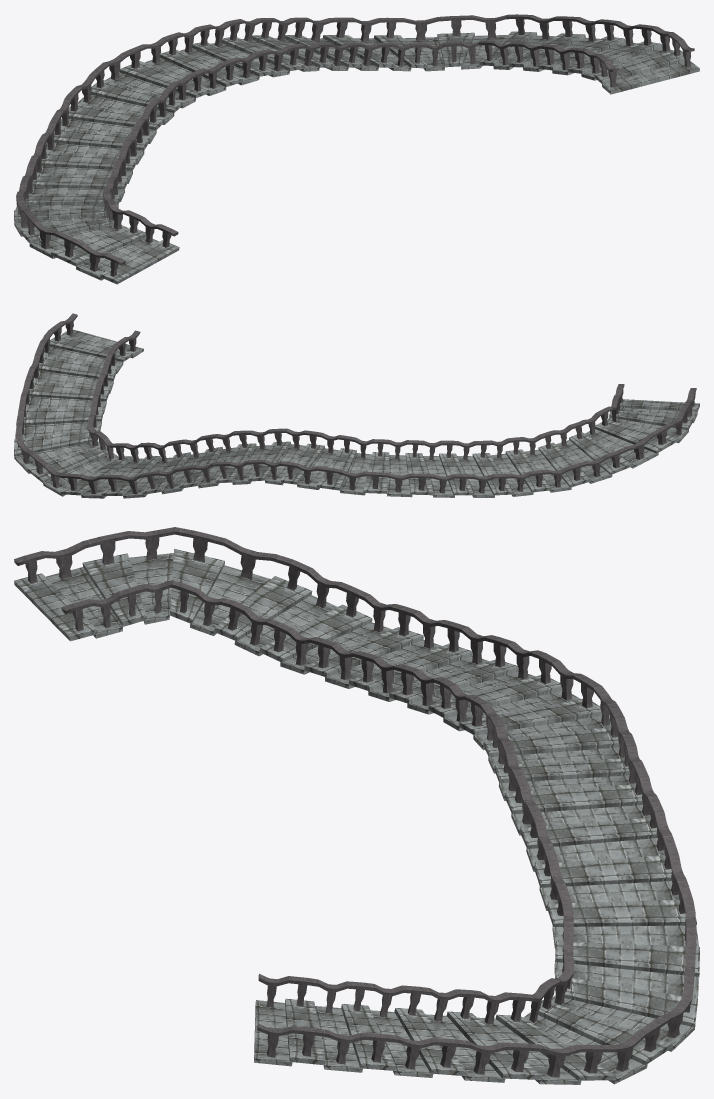
File: pod.glb
3 views of the same model, one above another, from view 1: azimuth 30°, elevation 25°; view 2: azimuth 150°, elevation 25°; view 3: azimuth 270°, elevation 25° (orthographic). The views are drawn at different scales.
Parts seen in each view (by area): view 1: BigBridge.003, BigBridge.001, BigBridge, BigBridge.017, BigBridge.019, BigBridge.015, BigBridge.021, BigBridge.013, BigBridge.002, BigBridge.011, BigBridge.047, BigBridge.023 (+36 smaller); view 2: BigBridge.005, BigBridge.041, BigBridge.037, BigBridge.043, BigBridge.039, BigBridge.045, BigBridge.007, BigBridge.006, BigBridge.047, BigBridge.009, BigBridge.021, BigBridge.008 (+36 smaller); view 3: BigBridge.033, BigBridge.031, BigBridge.029, BigBridge.035, BigBridge.037, BigBridge.005, BigBridge.025, BigBridge.003, BigBridge.027, BigBridge.007, BigBridge.006, BigBridge.009 (+36 smaller).
Part boxes in pixels (x1=…): BigBridge.003: x1=51, y1=210, x2=146, y2=266; BigBridge.001: x1=100, y1=224, x2=179, y2=284; BigBridge: x1=602, y1=40, x2=699, y2=94; BigBridge.017: x1=64, y1=86, x2=165, y2=129; BigBridge.019: x1=90, y1=62, x2=183, y2=112; BigBridge.015: x1=49, y1=110, x2=150, y2=150; BigBridge.021: x1=119, y1=44, x2=210, y2=97; BigBridge.013: x1=36, y1=134, x2=137, y2=170; BigBridge.002: x1=76, y1=217, x2=160, y2=280; BigBridge.011: x1=27, y1=156, x2=128, y2=189; BigBridge.047: x1=594, y1=32, x2=684, y2=84; BigBridge.023: x1=159, y1=32, x2=242, y2=86; BigBridge.005: x1=595, y1=406, x2=678, y2=453; BigBridge.041: x1=16, y1=395, x2=103, y2=425; BigBridge.037: x1=27, y1=431, x2=108, y2=482; BigBridge.043: x1=25, y1=367, x2=109, y2=401; BigBridge.039: x1=14, y1=416, x2=99, y2=456; BigBridge.045: x1=35, y1=341, x2=116, y2=380; BigBridge.007: x1=569, y1=420, x2=632, y2=474; BigBridge.006: x1=583, y1=413, x2=658, y2=468; BigBridge.047: x1=48, y1=321, x2=133, y2=361; BigBridge.009: x1=538, y1=430, x2=590, y2=487; BigBridge.021: x1=317, y1=435, x2=356, y2=490; BigBridge.008: x1=555, y1=425, x2=612, y2=483; BigBridge.033: x1=555, y1=920, x2=699, y2=976; BigBridge.031: x1=547, y1=878, x2=696, y2=926; BigBridge.029: x1=534, y1=834, x2=678, y2=887; BigBridge.035: x1=555, y1=954, x2=697, y2=1027; BigBridge.037: x1=531, y1=978, x2=672, y2=1065; BigBridge.005: x1=170, y1=527, x2=225, y2=623; BigBridge.025: x1=504, y1=761, x2=649, y2=814; BigBridge.003: x1=82, y1=531, x2=146, y2=626; BigBridge.027: x1=519, y1=795, x2=664, y2=848; BigBridge.007: x1=214, y1=554, x2=312, y2=641; BigBridge.006: x1=190, y1=539, x2=275, y2=635; BigBridge.009: x1=259, y1=582, x2=372, y2=662.
Size of the model in its own units: 117 by 13.91 by 69.66.
Materials: 2 (2 with a texture image).
